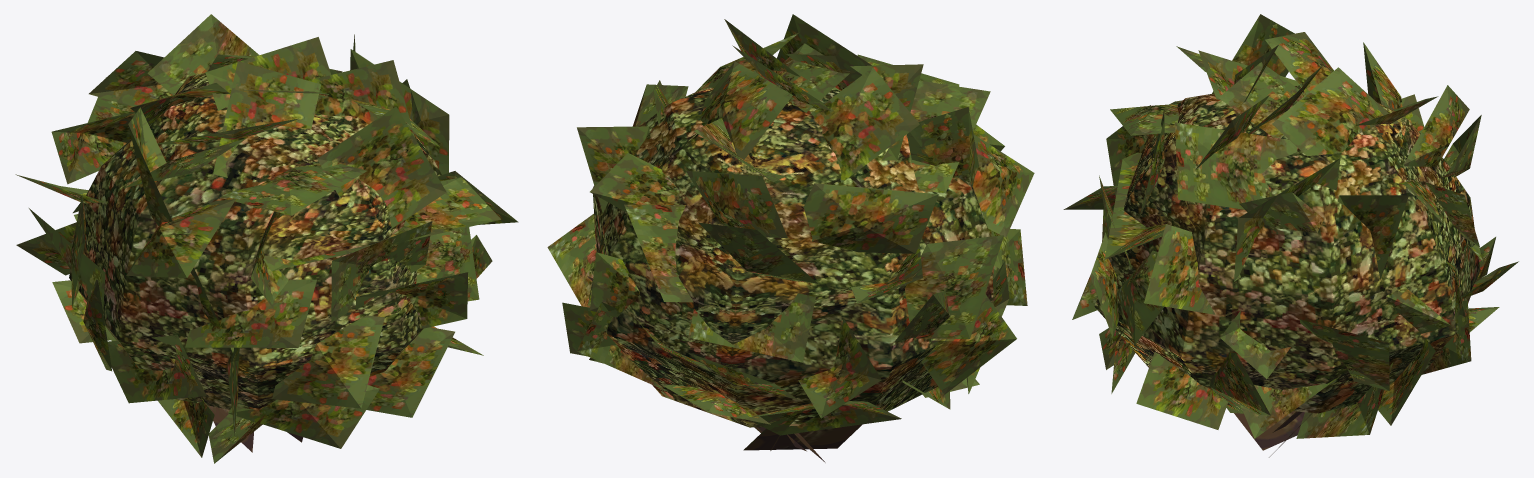
File: bg_anh_foliage_te_b88_sm_old.FBX
3 views of the same model, side by side, from view 1: azimuth 30°, elevation 25°; view 2: azimuth 150°, elevation 25°; view 3: azimuth 270°, elevation 25° (orthographic). The views are drawn at different scales.
Visible parts, largest first — view 1: bg_anh_foliage_te_b88_sm_old; view 2: bg_anh_foliage_te_b88_sm_old; view 3: bg_anh_foliage_te_b88_sm_old.
Part boxes in pixels (left/top/right/bottom): bg_anh_foliage_te_b88_sm_old: left=15, top=14, right=518, bottom=463; bg_anh_foliage_te_b88_sm_old: left=547, top=14, right=1034, bottom=462; bg_anh_foliage_te_b88_sm_old: left=1063, top=14, right=1518, bottom=457.
Bounding box in the file's own units: 116 × 106 × 115.
